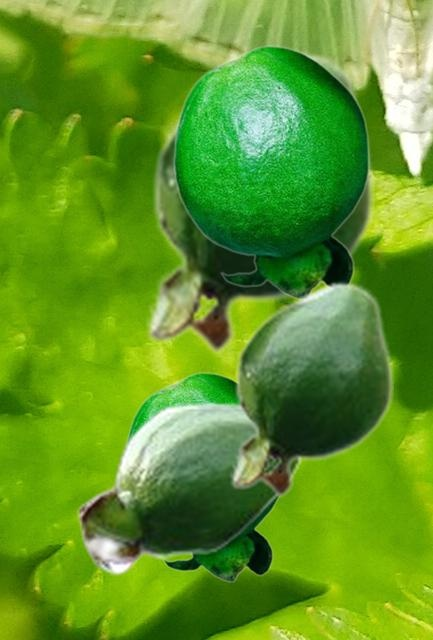guava: (146, 50, 373, 355), (172, 45, 369, 298), (77, 401, 303, 575), (230, 280, 392, 498), (125, 372, 278, 581)
